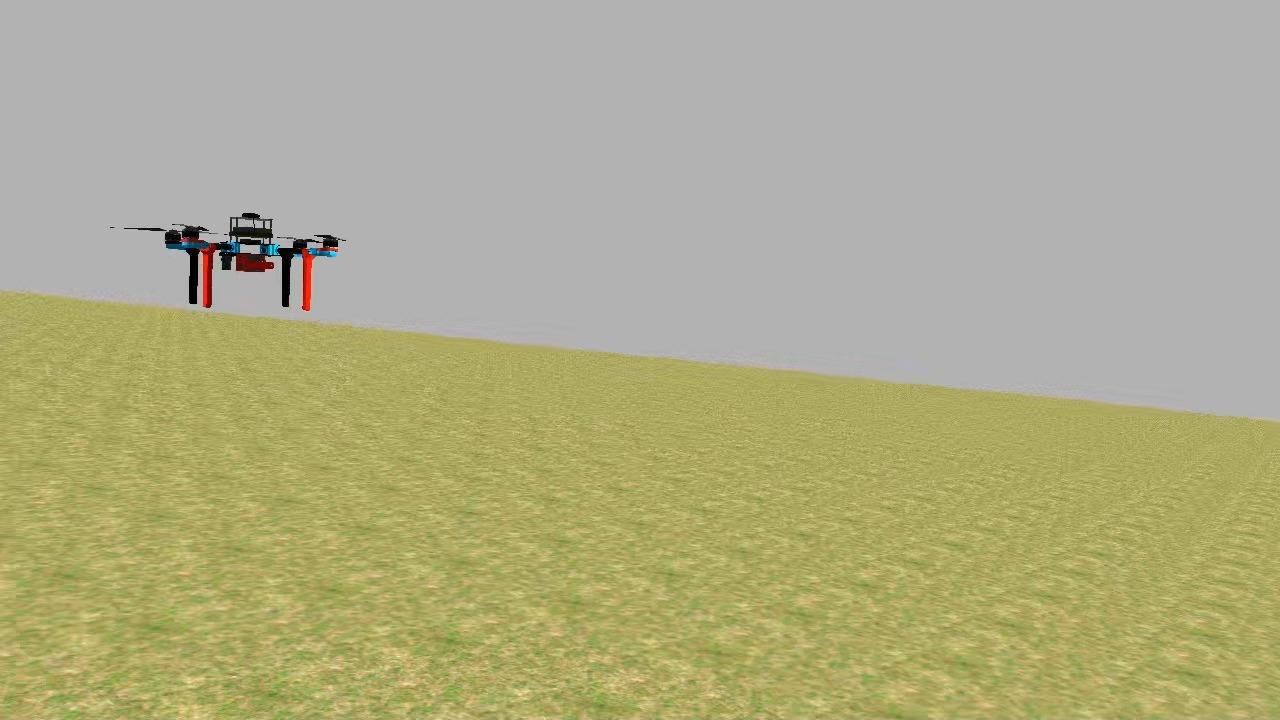UAV: (160, 208, 346, 316)
